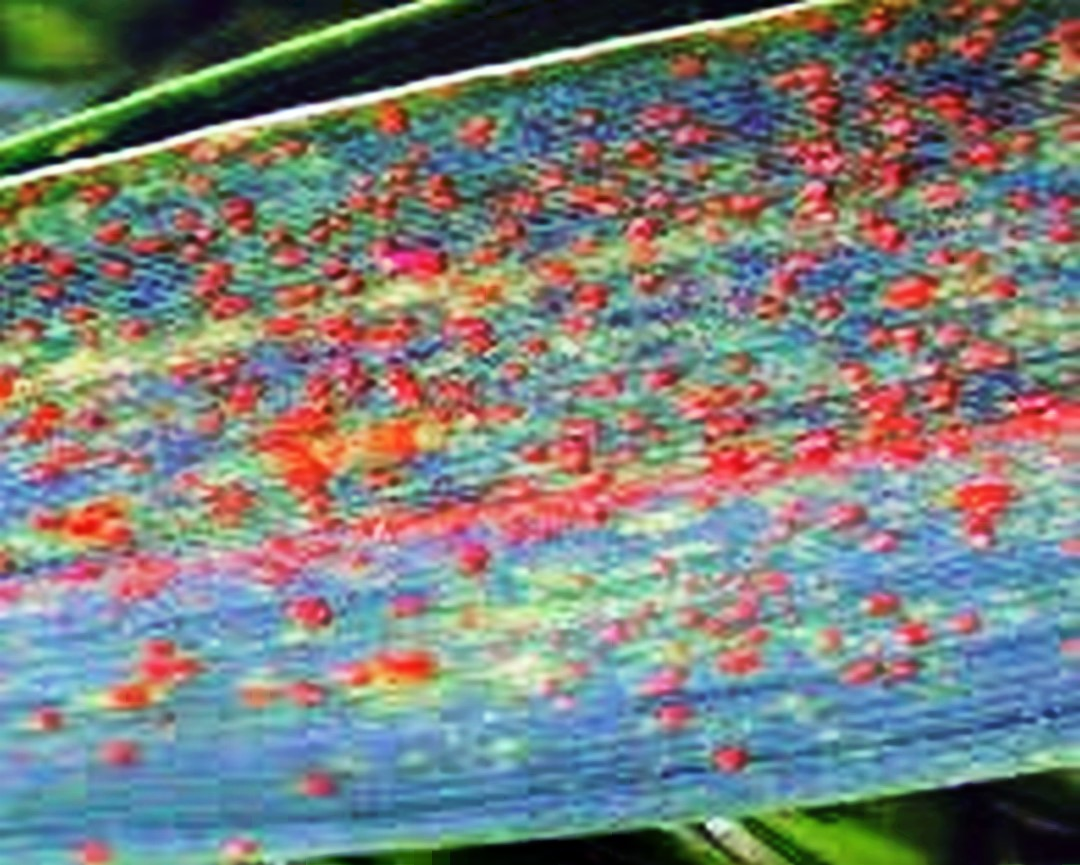Leaf Rust: (33, 78, 1045, 773)
